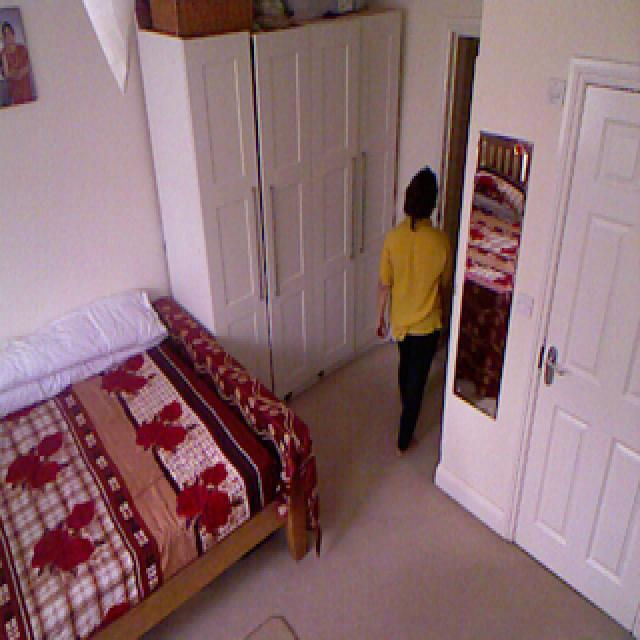standing: (378, 167, 452, 455)
